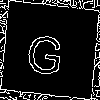G: (25, 25, 66, 76)
